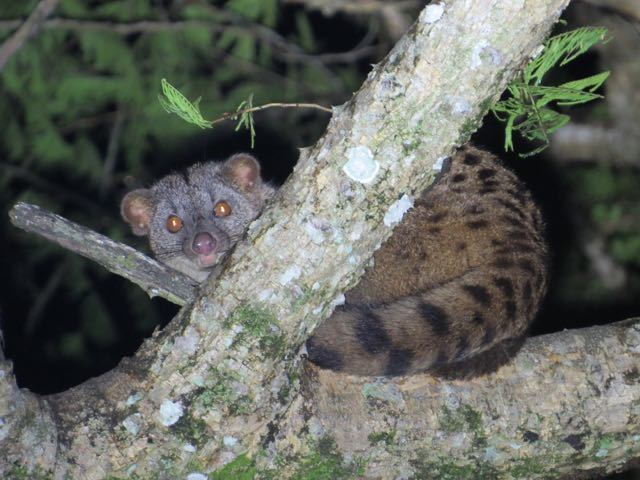Civet: (100, 132, 563, 400)
